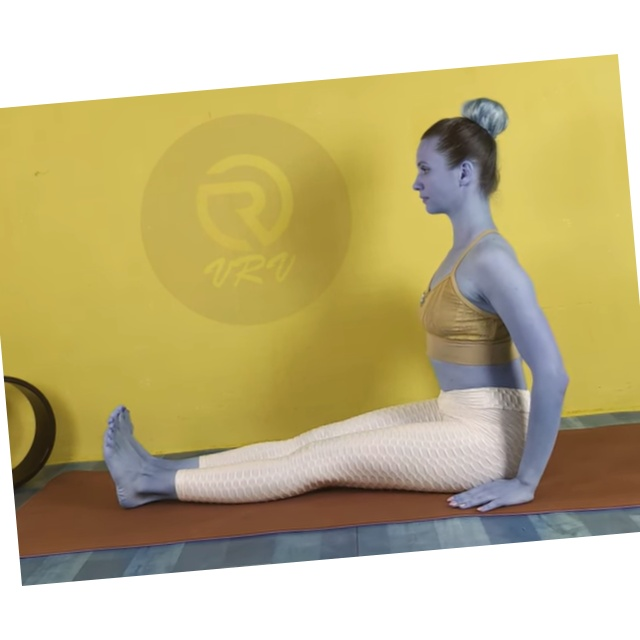Staff_Pose: (101, 116, 572, 513)
